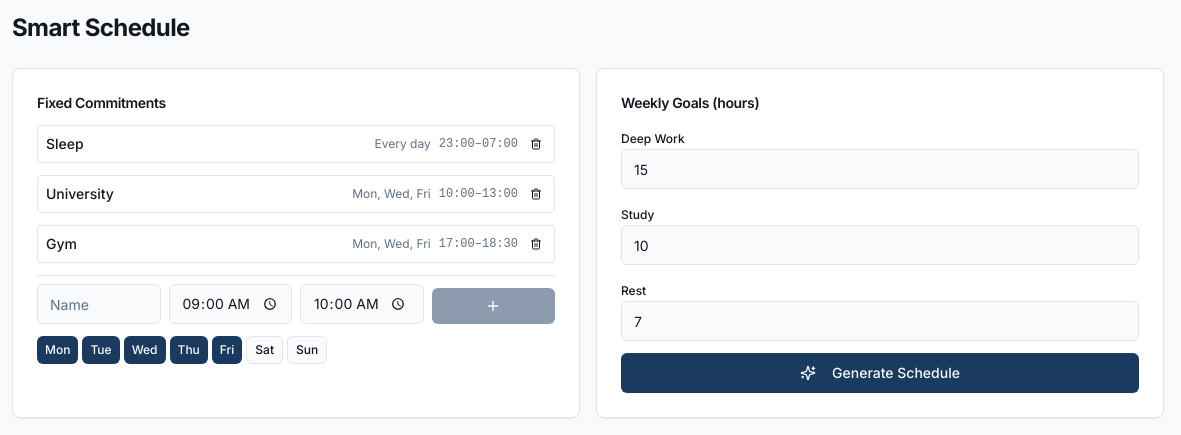
it: Commitment days › cannot add a commitment with no days
Type "X" into the field with placeholder "Name" at (99, 304), box [37,284,160,324]
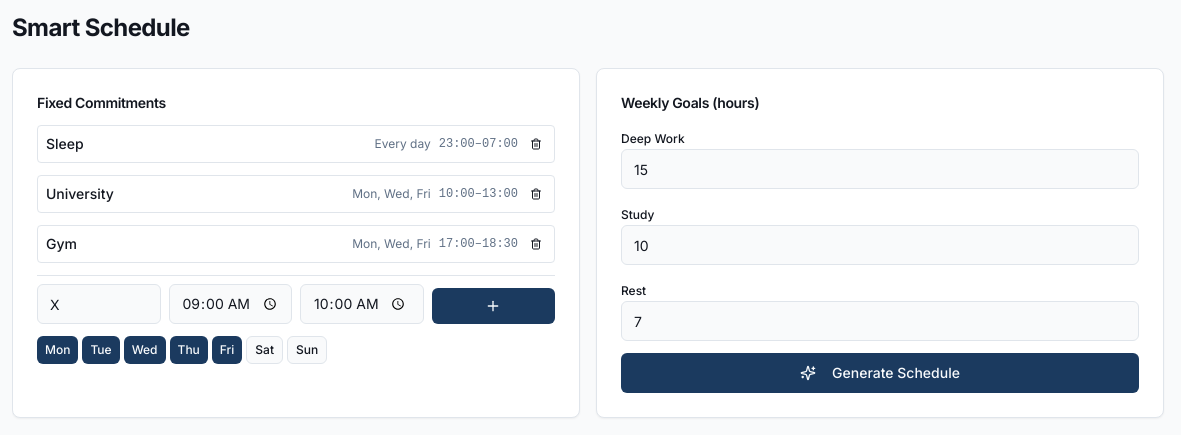
Click the button "Mon" at (58, 350), box [37,336,78,364]
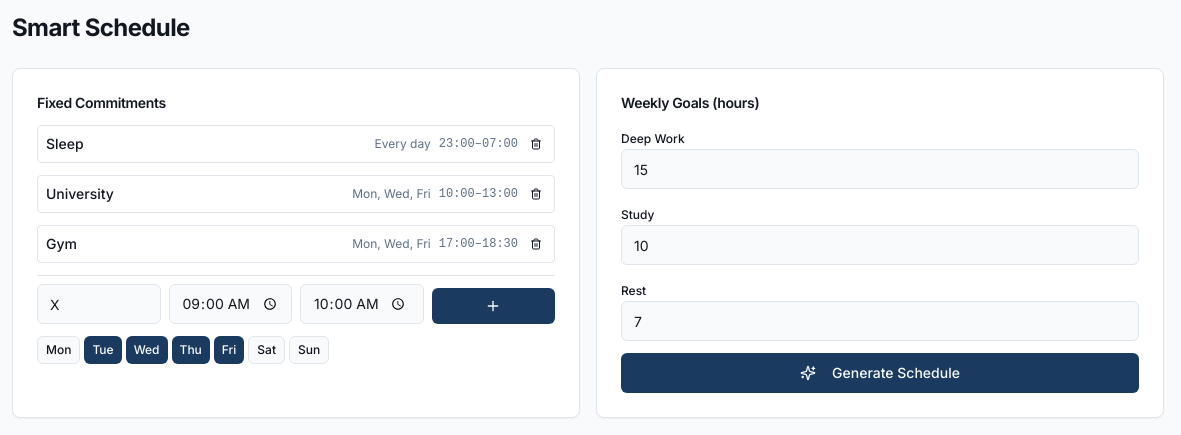
Click the button "Tue" at (103, 350), box [84,336,122,364]
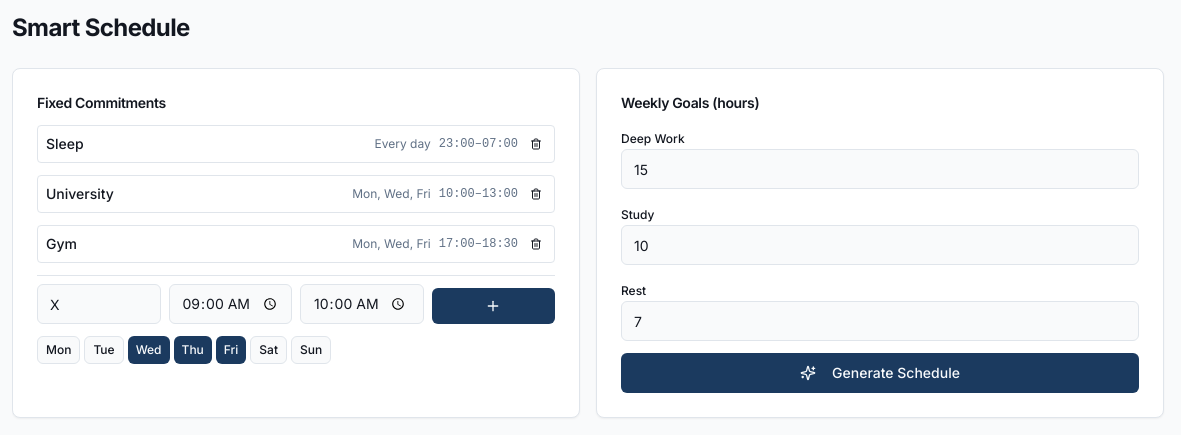
Click the button "Wed" at (149, 350), box [128,336,170,364]
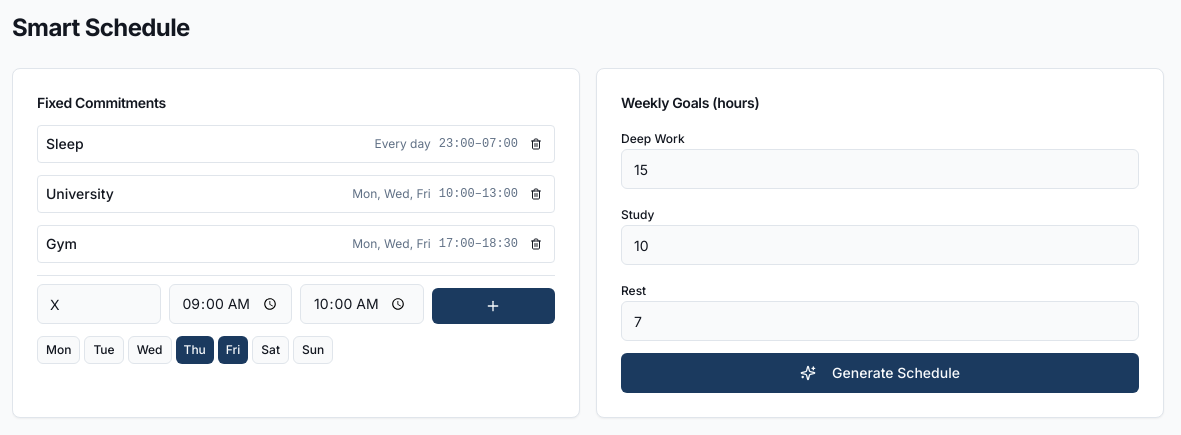
Click the button "Thu" at (195, 350), box [176,336,214,364]
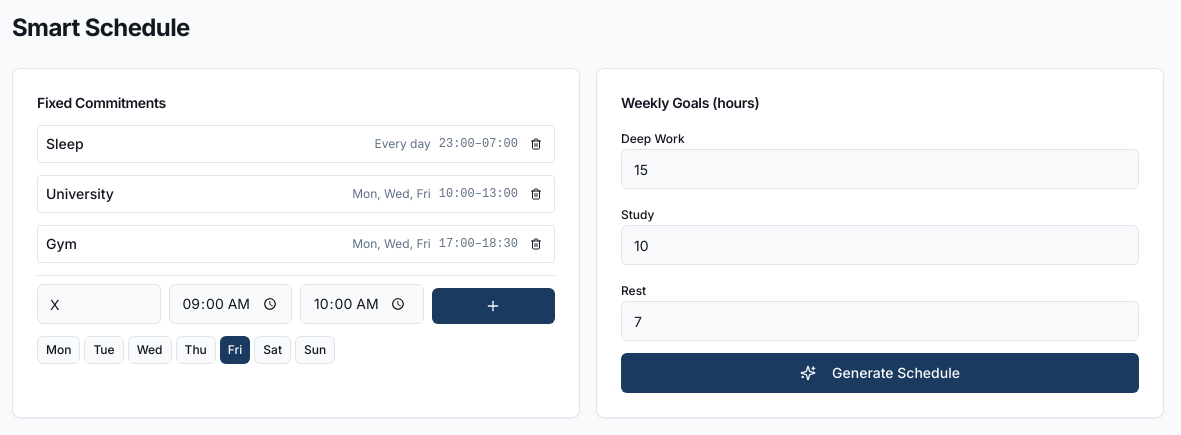
Click the button "Fri" at (235, 350), box [220,336,250,364]
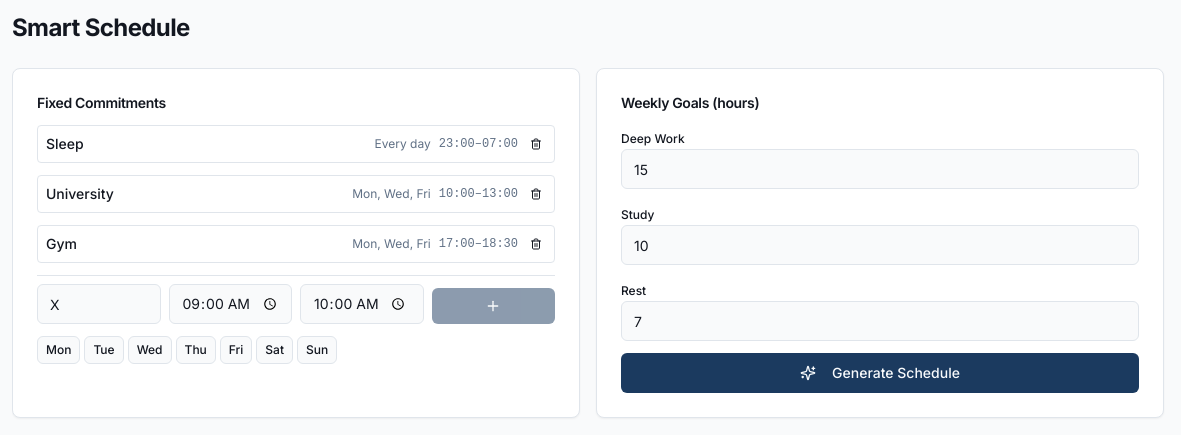
Check: the button named "Add commitment" is disabled, box [432,288,555,324]
